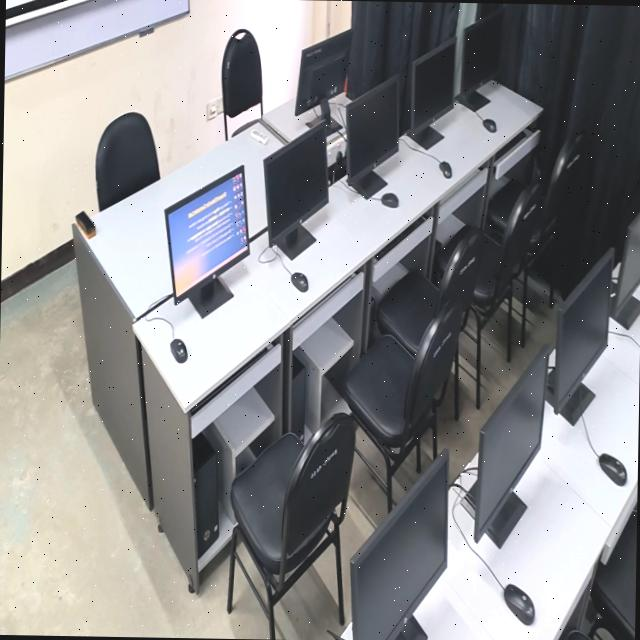Chair: (231, 410, 354, 640), (348, 302, 459, 458), (382, 240, 475, 342), (472, 182, 538, 320), (523, 134, 581, 266), (96, 105, 162, 199), (215, 23, 268, 122), (610, 521, 636, 640), (560, 627, 634, 640)
Cpu: (190, 430, 220, 562), (286, 348, 308, 436)
Monitor: (355, 459, 451, 640), (468, 342, 548, 554), (162, 160, 252, 318), (544, 252, 614, 429), (262, 128, 328, 251), (346, 72, 400, 190), (408, 33, 456, 145), (294, 26, 352, 116), (610, 200, 640, 335), (462, 9, 499, 108)
Mouse: (500, 576, 539, 632), (597, 446, 628, 488), (167, 333, 190, 368), (290, 267, 310, 295), (380, 190, 400, 211), (437, 155, 452, 181), (482, 115, 497, 136)
